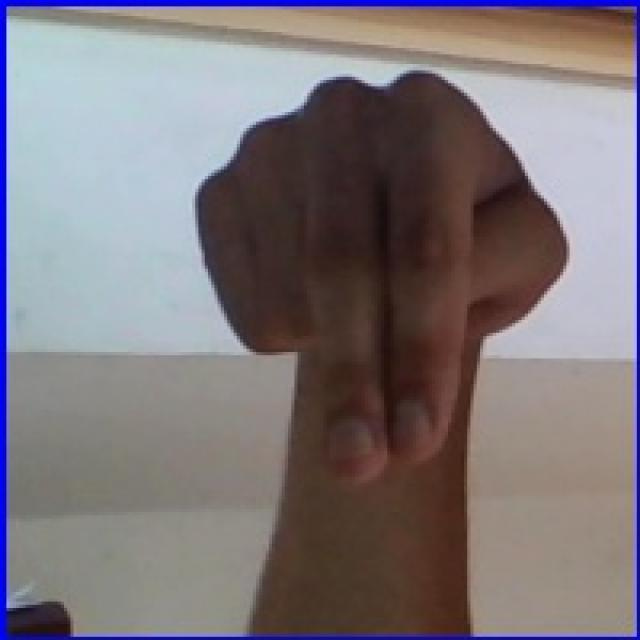Letra-N: (162, 44, 601, 527)
